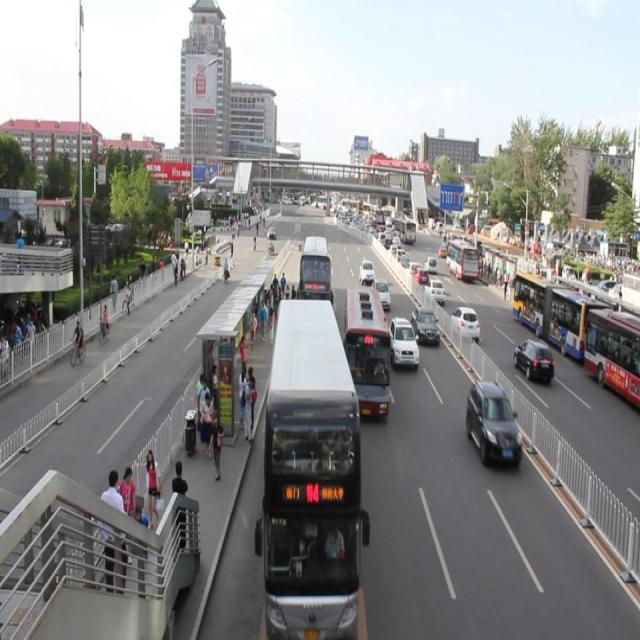car: (461, 378, 527, 474), (386, 312, 422, 371), (408, 300, 442, 346), (365, 278, 393, 310), (355, 255, 375, 283)
van: (252, 296, 373, 640), (338, 284, 394, 420), (291, 230, 336, 314)
